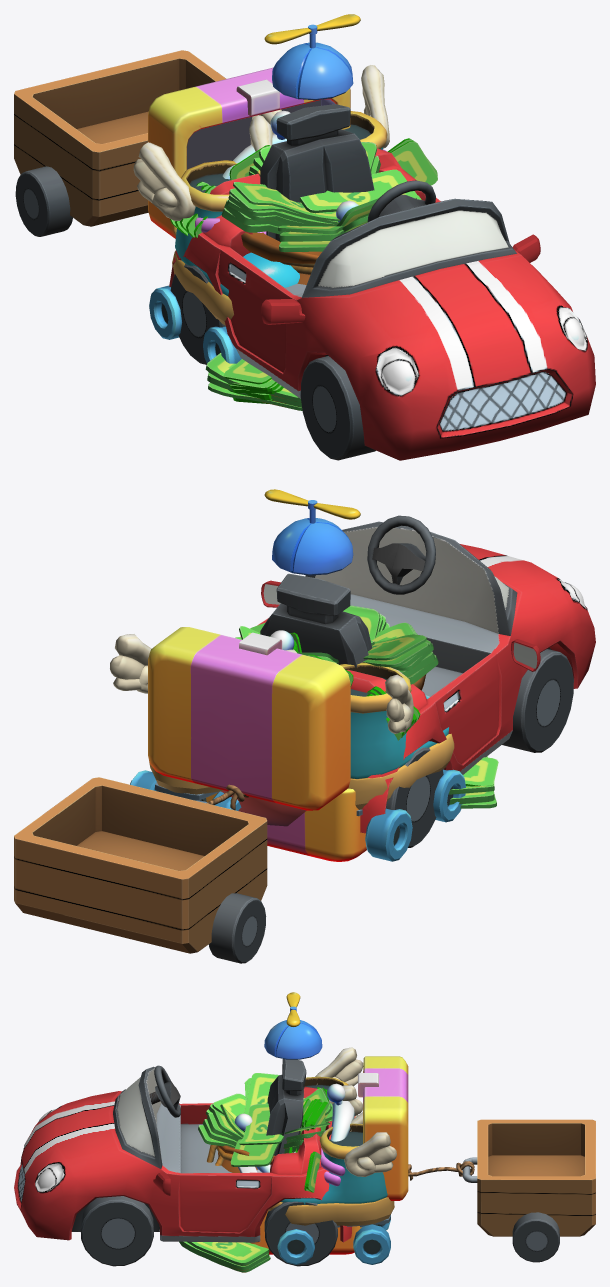
The model's file is Booster_Pack_All.fbx.
The picture shows the model from 3 angles, top to bottom: view 1: azimuth 30°, elevation 25°; view 2: azimuth 150°, elevation 25°; view 3: azimuth 270°, elevation 25°; orthographic projection. The views are drawn at different scales.
Visible parts, largest first — view 1: Booster_Mini_Car, Booster_Patin, Booster_Money_BAG, Booster_Money_CASE, Booster_Hopter, Booster_Money_POUCH; view 2: Booster_Mini_Car, Booster_Money_CASE, Booster_Patin, Booster_Money_BAG, Booster_Hopter, Booster_Money_POUCH; view 3: Booster_Mini_Car, Booster_Patin, Booster_Money_BAG, Booster_Money_CASE, Booster_Money_POUCH, Booster_Hopter.
Boxes of the visible parts, x1,y1,x2,y2 form: Booster_Mini_Car: (14, 50, 595, 460); Booster_Patin: (133, 65, 389, 363); Booster_Money_BAG: (205, 142, 421, 410); Booster_Money_CASE: (148, 67, 350, 238); Booster_Hopter: (264, 14, 360, 100); Booster_Money_POUCH: (170, 110, 437, 403); Booster_Mini_Car: (14, 515, 595, 963); Booster_Money_CASE: (148, 627, 366, 861); Booster_Patin: (110, 634, 465, 861); Booster_Money_BAG: (235, 605, 496, 808); Booster_Hopter: (264, 489, 360, 575); Booster_Money_POUCH: (218, 630, 498, 826); Booster_Mini_Car: (14, 1059, 595, 1266); Booster_Patin: (268, 1047, 396, 1264); Booster_Money_BAG: (179, 1073, 332, 1272); Booster_Money_CASE: (250, 1056, 408, 1254); Booster_Money_POUCH: (234, 1083, 355, 1192); Booster_Hopter: (264, 992, 322, 1059).
Size of the model in its own units: 216 by 224 by 536.
